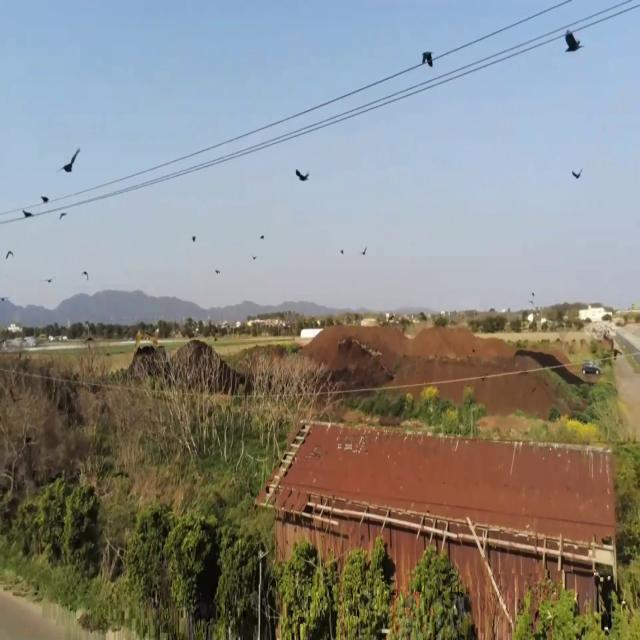bird: (61, 142, 80, 182), (563, 22, 581, 61), (422, 43, 433, 74), (295, 164, 309, 188), (22, 203, 33, 224), (41, 190, 49, 207), (82, 266, 89, 284), (362, 242, 367, 258), (260, 230, 265, 243), (192, 230, 196, 245), (253, 249, 257, 260)
